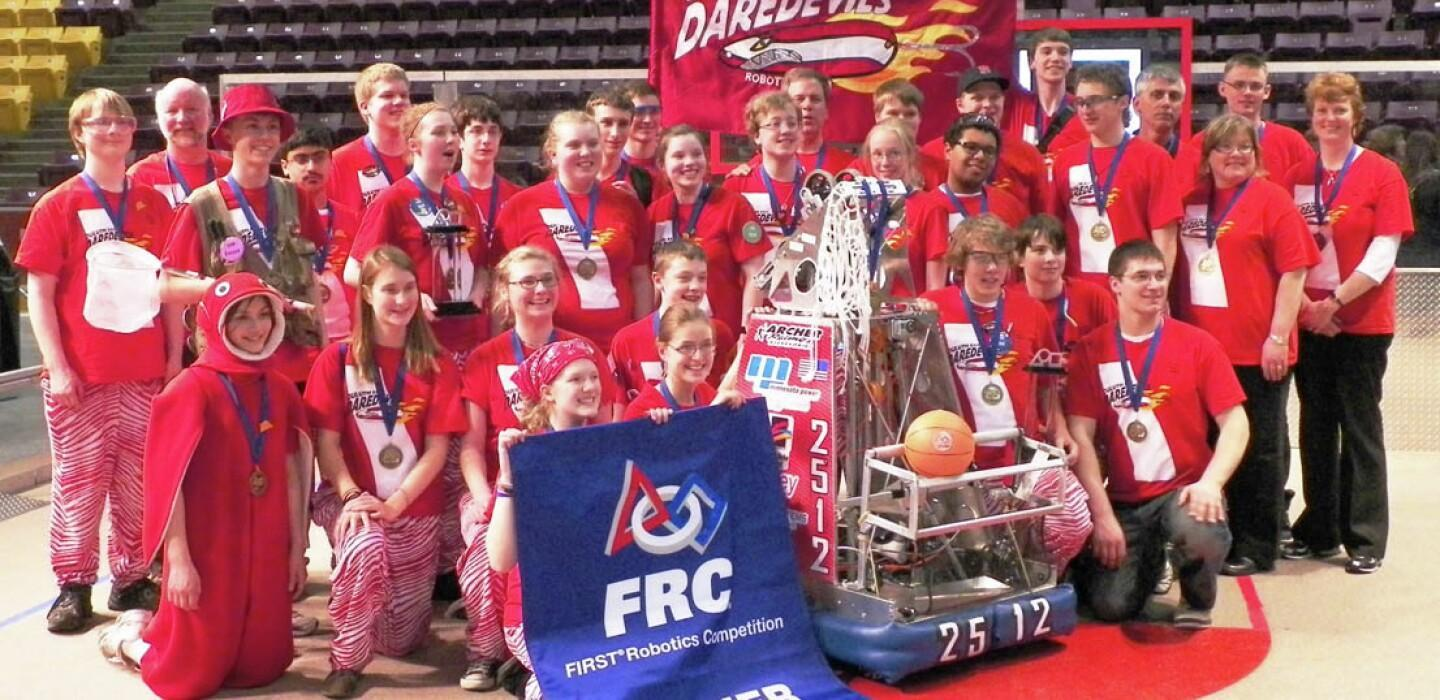robot: (717, 162, 1084, 688)
